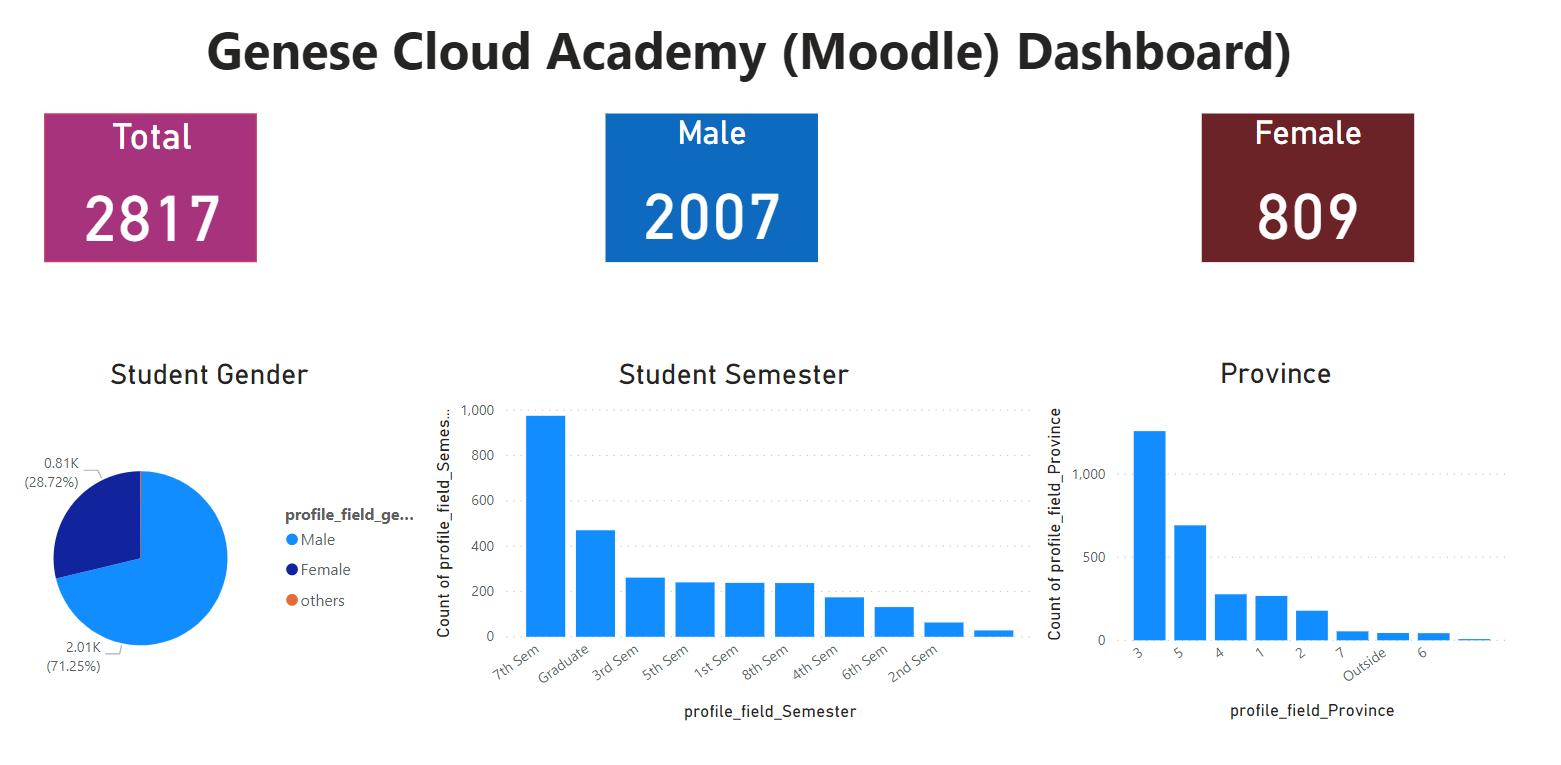

This screenshot's page, from the dashboard's own definition file:
{"tool":"powerbi","page":{"name":"Dashboard","canvas":[1280,720],"ordinal":0},"visuals":[{"type":"pieChart","title":"Student Gender","fields":{"Category":["user_latest.profile_field_gender1"],"Series":["user_latest.profile_field_gender1"],"Y":["CountNonNull(user_latest.profile_field_gender)"]},"box":[2.1,303.2,367.2,310.5],"z":0},{"type":"columnChart","title":"Student Semester","fields":{"Category":["user_latest.profile_field_Semester1"],"Y":["CountNonNull(user_latest.profile_field_Semester)1"]},"box":[369.4,303.2,513.4,310.5],"z":1000},{"type":"columnChart","title":"Province","fields":{"Category":["user_latest.profile_field_Province1"],"Y":["CountNonNull(user_latest.profile_field_Province)1"]},"box":[882.3,302.7,397.4,310.5],"z":2000},{"type":"card","title":"Total","fields":{"Values":["CountNonNull(user_latest.id)"]},"box":[47.1,98.8,178.8,124.4],"z":3000},{"type":"card","title":"Male","fields":{"Values":["CountNonNull(user_latest.profile_field_gender)"]},"box":[518.2,98.8,178.8,124.4],"z":4000},{"type":"card","title":"Female","fields":{"Values":["CountNonNull(user_latest.profile_field_gender)"]},"box":[1019.5,98.8,178.8,124.4],"z":5000},{"type":"textbox","box":[0,10.9,1279.3,72.5],"z":6000},{"type":"card","fields":{"Values":["Min(Kathmandu.datetime)"]},"box":[994.2,641.5,268.2,68.9],"z":7000}]}

Visuals, with their boxes on the page's 1280x720 design canvas (x1, y1, x2, y2). These are canvas units, not pixel positions in the 1561x765 screenshot, which may show the page scaled, cropped or inside an application window:
"Student Gender" pieChart: [2, 303, 369, 614]
"Student Semester" columnChart: [369, 303, 883, 614]
"Province" columnChart: [882, 303, 1280, 613]
"Total" card: [47, 99, 226, 223]
"Male" card: [518, 99, 697, 223]
"Female" card: [1020, 99, 1198, 223]
textbox: [0, 11, 1279, 83]
card - Min(Kathmandu.datetime): [994, 642, 1262, 710]
